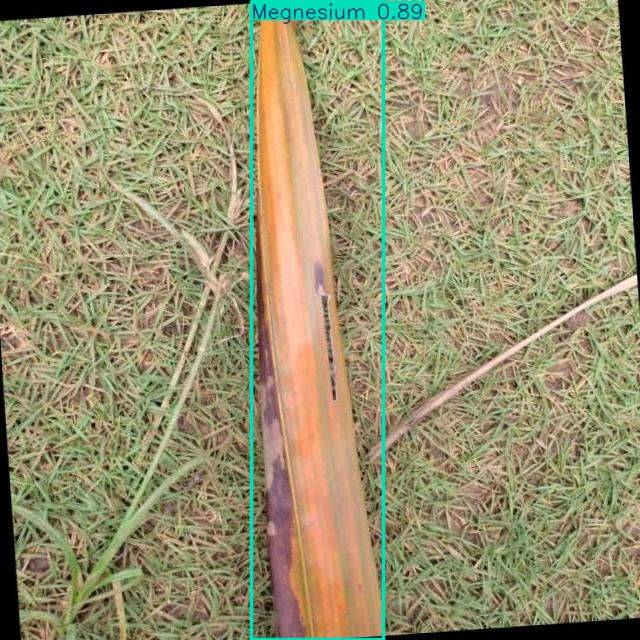Megnesium: (252, 1, 384, 640)
